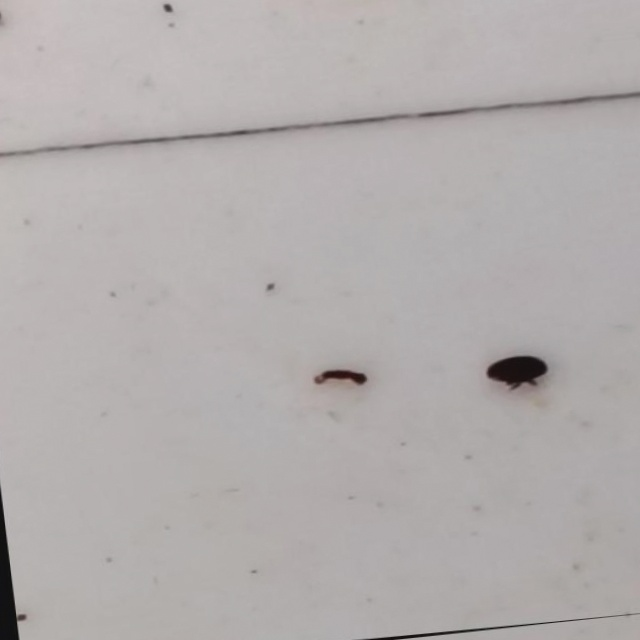varroa: (478, 353, 550, 391)
